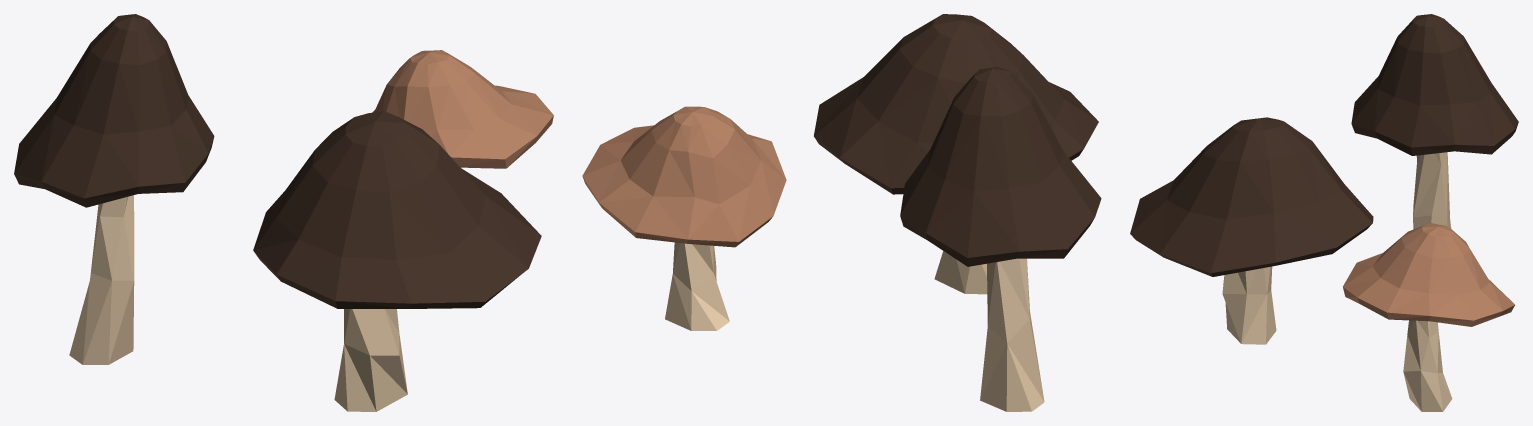
File: Mushroom 2_9.fbx
The picture shows the model from 3 angles, left to right: view 1: azimuth 30°, elevation 25°; view 2: azimuth 150°, elevation 25°; view 3: azimuth 270°, elevation 25°; orthographic projection. The views are drawn at different scales.
Parts seen in each view (by area): view 1: Mushroom 2_9; view 2: Mushroom 2_9; view 3: Mushroom 2_9.
Part boxes in pixels (x1,y1,x2,y2): Mushroom 2_9: (14, 14, 553, 411); Mushroom 2_9: (582, 14, 1101, 411); Mushroom 2_9: (1130, 14, 1518, 411).
Bounding box in the file's own units: 0.6614 × 0.4198 × 0.5519.
